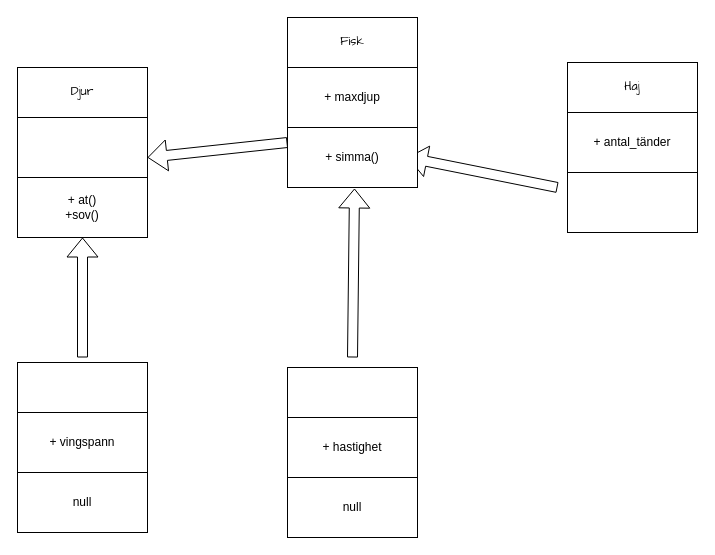
Some shapes in this 715 by 555 pixel diagram are drawn without their labels. The centre of each missing label's shape, as x and y in pixels:
"+ at(djur)" belongs at (x=632, y=202).
"Fagel" belongs at (x=82, y=387).
"Namn" belongs at (x=82, y=147).
"Torsk" belongs at (x=352, y=392).
